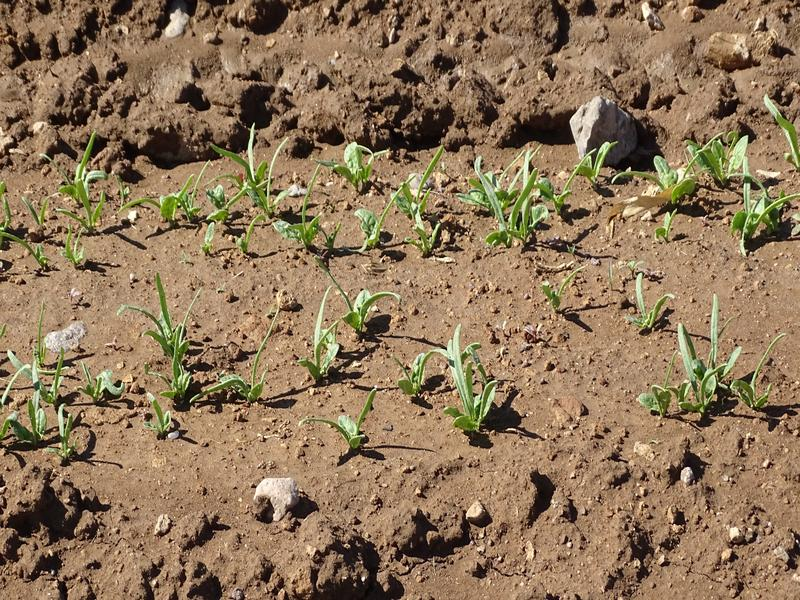Espinaca: (177, 146, 612, 258), (648, 111, 800, 250), (131, 284, 285, 407), (20, 146, 154, 269), (11, 334, 123, 448), (668, 304, 781, 413), (402, 331, 516, 435), (306, 280, 395, 377), (309, 391, 382, 452), (624, 277, 668, 330)
